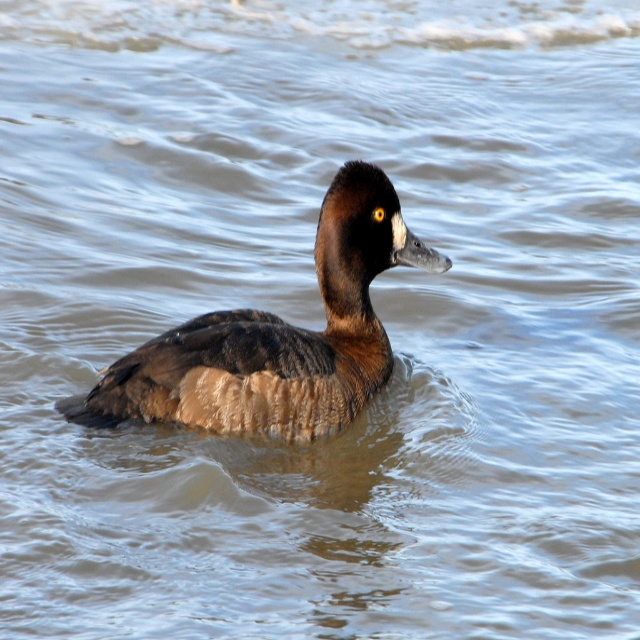Duck: (54, 159, 453, 444)
